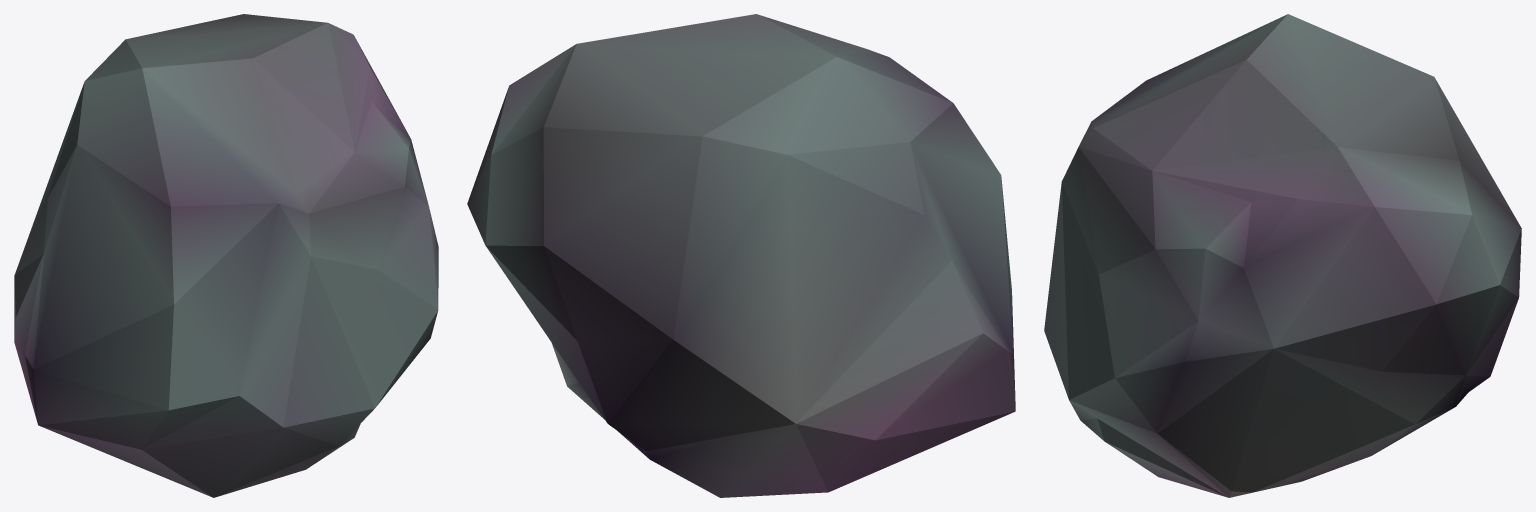
File: Obj_Asteroid.FBX
The picture shows the model from 3 angles, left to right: view 1: azimuth 30°, elevation 25°; view 2: azimuth 150°, elevation 25°; view 3: azimuth 270°, elevation 25°; orthographic projection. The views are drawn at different scales.
Parts seen in each view (by area): view 1: Obj_Asteroid; view 2: Obj_Asteroid; view 3: Obj_Asteroid.
Boxes of the visible parts, x1,y1,x2,y2 form: Obj_Asteroid: (14, 14, 438, 497); Obj_Asteroid: (467, 14, 1015, 497); Obj_Asteroid: (1044, 14, 1521, 497).
Bounding box in the file's own units: 103 × 97.5 × 94.56.
